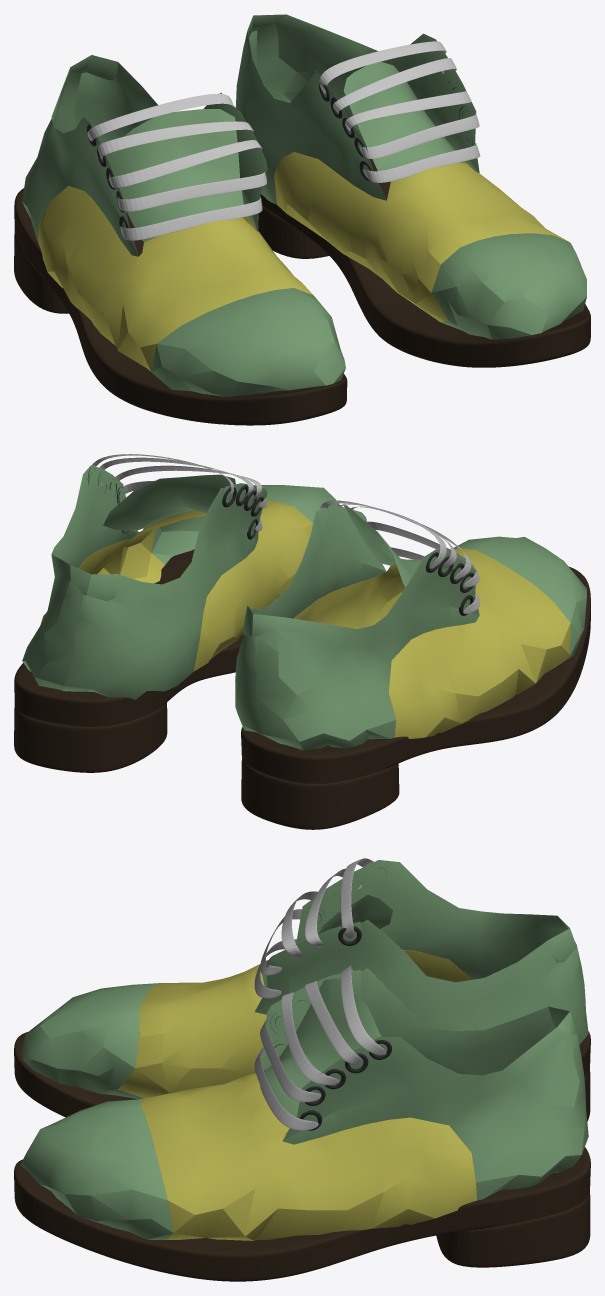
3 renders of one model, top to bottom at view 1: azimuth 30°, elevation 25°; view 2: azimuth 150°, elevation 25°; view 3: azimuth 270°, elevation 25°, orthographic. The views are drawn at different scales.
Visible parts, largest first — view 1: ZAPATO1_3.001, ZAPATO1_3, Plane.011, Plane, Plane.009, Plane.006, Plane.010, Plane.008, Plane.007, Plane.002, Plane.003, Plane.004 (+2 smaller); view 2: ZAPATO1_3.001, ZAPATO1_3, Plane.011, Plane, Plane.009, Plane.001, Plane.003, Plane.007; view 3: ZAPATO1_3, ZAPATO1_3.001, Plane, Plane.011, Plane.001, Plane.004, Plane.003, Plane.005, Plane.002, Plane.007, Plane.008, Plane.010.
Part boxes in pixels (bbox=[...]): ZAPATO1_3.001: bbox=[22, 55, 345, 396]; ZAPATO1_3: bbox=[236, 14, 586, 339]; Plane.011: bbox=[14, 188, 347, 425]; Plane: bbox=[258, 159, 590, 367]; Plane.009: bbox=[117, 172, 266, 211]; Plane.006: bbox=[120, 196, 262, 240]; Plane.010: bbox=[109, 140, 262, 187]; Plane.008: bbox=[97, 121, 253, 158]; Plane.007: bbox=[87, 93, 234, 140]; Plane.002: bbox=[359, 114, 479, 158]; Plane.003: bbox=[333, 58, 456, 112]; Plane.004: bbox=[319, 41, 446, 93]; ZAPATO1_3.001: bbox=[235, 505, 586, 750]; ZAPATO1_3: bbox=[22, 465, 339, 699]; Plane.011: bbox=[241, 566, 590, 829]; Plane: bbox=[14, 549, 243, 772]; Plane.009: bbox=[366, 521, 479, 587]; Plane.001: bbox=[115, 465, 262, 501]; Plane.003: bbox=[99, 457, 253, 497]; Plane.007: bbox=[320, 500, 446, 568]; ZAPATO1_3: bbox=[20, 968, 588, 1240]; ZAPATO1_3.001: bbox=[20, 860, 588, 1099]; Plane: bbox=[14, 1147, 590, 1281]; Plane.011: bbox=[14, 1031, 590, 1121]; Plane.001: bbox=[281, 992, 339, 1085]; Plane.004: bbox=[340, 965, 386, 1055]; Plane.003: bbox=[305, 981, 361, 1064]; Plane.005: bbox=[254, 1047, 318, 1130]; Plane.002: bbox=[260, 1016, 321, 1102]; Plane.007: bbox=[340, 858, 373, 938]; Plane.008: bbox=[305, 868, 361, 947]; Plane.010: bbox=[281, 891, 317, 958].
Bounding box in the file's own units: 412 × 209 × 447.
